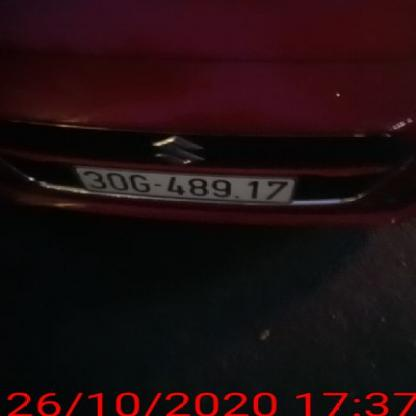biensoxe: (73, 161, 297, 215)
